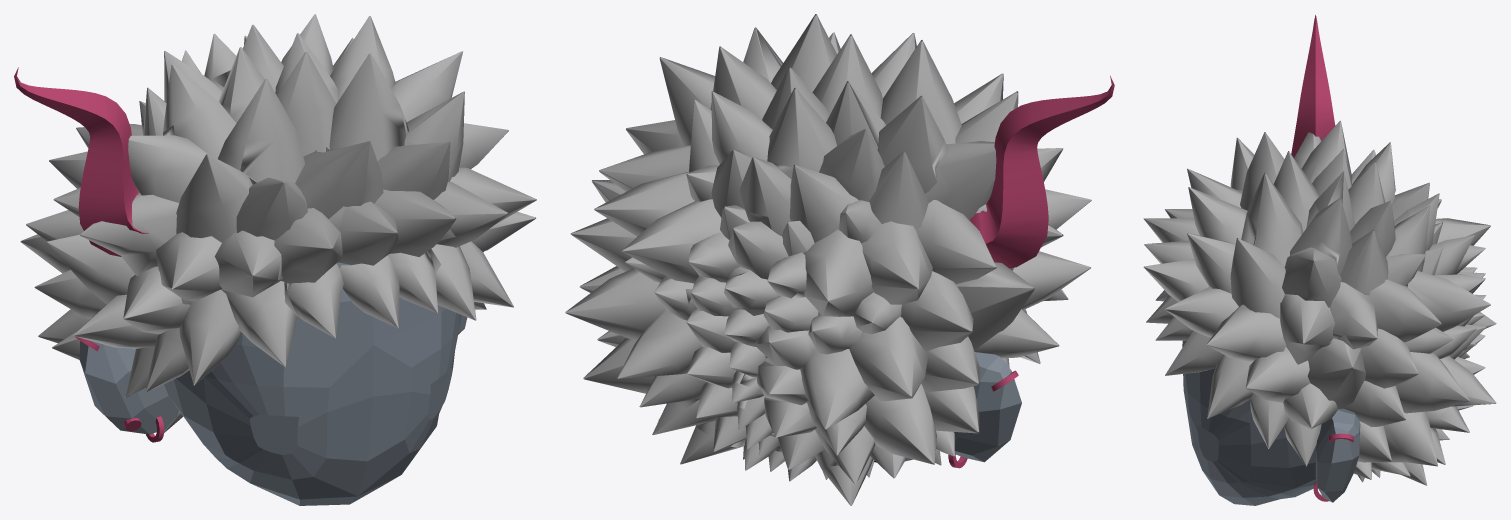
The model's file is evil_you_head.fbx.
3 renders of one model, left to right at view 1: azimuth 30°, elevation 25°; view 2: azimuth 150°, elevation 25°; view 3: azimuth 270°, elevation 25°, orthographic. The views are drawn at different scales.
Visible parts, largest first — view 1: armature, polySurface6 (×2), polySurface7 (×2), polySurface5 (×2), polySurface4, polySurface8 (×2), horn, polySurface11, polySurface10, polySurface9; view 2: polySurface8 (×2), polySurface7 (×2), polySurface11 (×2), polySurface10 (×2), polySurface4, polySurface9 (×2), polySurface12 (×2), polySurface13 (×2), horn, polySurface6 (×2), armature, polySurface5; view 3: polySurface7 (×2), polySurface6 (×2), polySurface8 (×2), armature, polySurface5 (×2), polySurface11, polySurface4, polySurface9 (×2), polySurface10 (×2), horn, polySurface12, polySurface13.
Part boxes in pixels (x1,y1,x2,y2): armature: [79, 254, 467, 505]; polySurface6 (×2): [176, 53, 508, 297]; polySurface7 (×2): [80, 16, 536, 334]; polySurface5 (×2): [125, 141, 513, 397]; polySurface4: [204, 24, 399, 328]; polySurface8 (×2): [46, 14, 483, 348]; horn: [14, 67, 149, 256]; polySurface11: [20, 234, 105, 359]; polySurface10: [26, 101, 145, 241]; polySurface9: [49, 124, 182, 432]; polySurface8 (×2): [591, 91, 1059, 358]; polySurface7 (×2): [626, 46, 1091, 309]; polySurface11 (×2): [565, 266, 979, 478]; polySurface10 (×2): [570, 165, 973, 354]; polySurface4: [724, 33, 916, 471]; polySurface9 (×2): [594, 171, 941, 479]; polySurface12 (×2): [617, 309, 875, 505]; polySurface13 (×2): [686, 307, 824, 469]; horn: [969, 75, 1114, 268]; polySurface6 (×2): [743, 14, 1063, 181]; armature: [737, 300, 1021, 462]; polySurface5: [954, 73, 1068, 367]; polySurface7 (×2): [1206, 120, 1354, 402]; polySurface6 (×2): [1143, 132, 1303, 337]; polySurface8 (×2): [1283, 142, 1429, 428]; armature: [1182, 286, 1407, 505]; polySurface5 (×2): [1155, 168, 1321, 466]; polySurface11: [1344, 352, 1469, 479]; polySurface4: [1144, 151, 1485, 351]; polySurface9 (×2): [1357, 199, 1490, 482]; polySurface10 (×2): [1352, 222, 1485, 388]; horn: [1291, 15, 1335, 157]; polySurface12: [1402, 356, 1496, 485]; polySurface13: [1436, 324, 1485, 440].
Bounding box in the file's own units: 0.0276 × 0.0252 × 0.0215.
